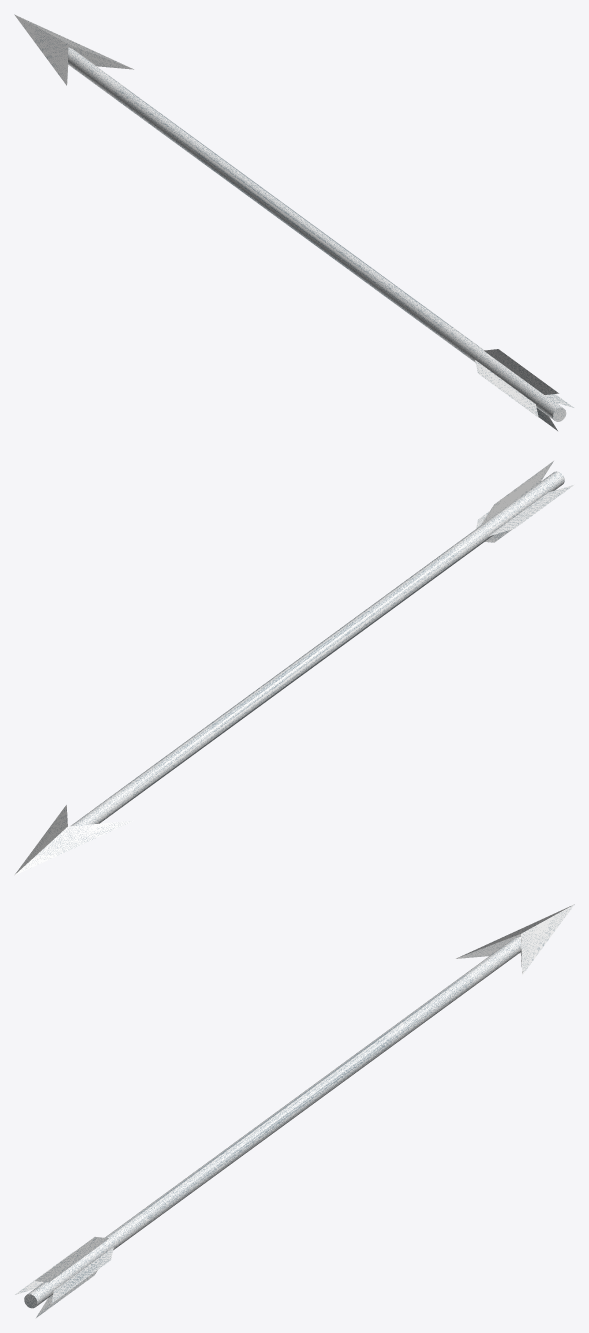
The model's file is Arrow.fbx.
3 renders of one model, top to bottom at view 1: azimuth 30°, elevation 25°; view 2: azimuth 150°, elevation 25°; view 3: azimuth 330°, elevation 25°, orthographic.
Parts seen in each view (by area): view 1: Group1, Group3, Group4, Group2; view 2: Group1, Group3, Group4, Group2; view 3: Group1, Group3, Group4, Group2.
Boxes of the visible parts, bbox=[...] form: Group1: bbox=[68, 47, 566, 421]; Group3: bbox=[14, 14, 133, 85]; Group4: bbox=[484, 349, 558, 430]; Group2: bbox=[475, 360, 573, 417]; Group1: bbox=[70, 471, 564, 826]; Group3: bbox=[14, 805, 133, 875]; Group4: bbox=[479, 461, 553, 542]; Group2: bbox=[476, 484, 574, 536]; Group1: bbox=[24, 937, 521, 1308]; Group3: bbox=[456, 904, 574, 974]; Group4: bbox=[35, 1236, 108, 1317]; Group2: bbox=[15, 1247, 113, 1303].
Bounding box in the file's own units: 3.6 × 1.97 × 50.3.
